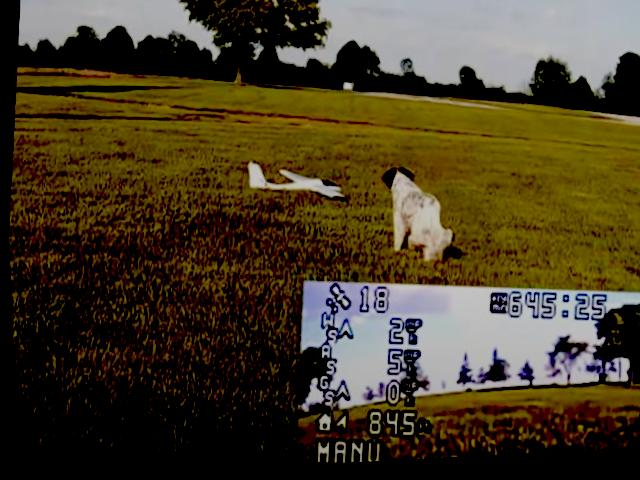iha: (245, 159, 343, 207)
